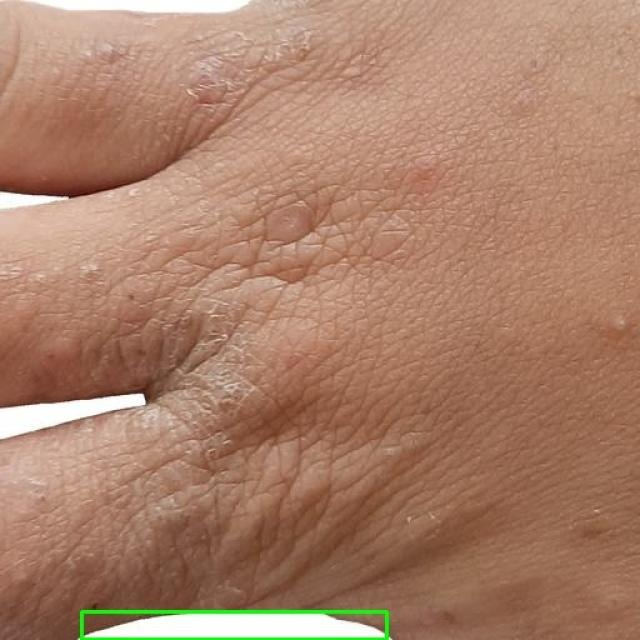Scabies: (82, 611, 388, 639)
